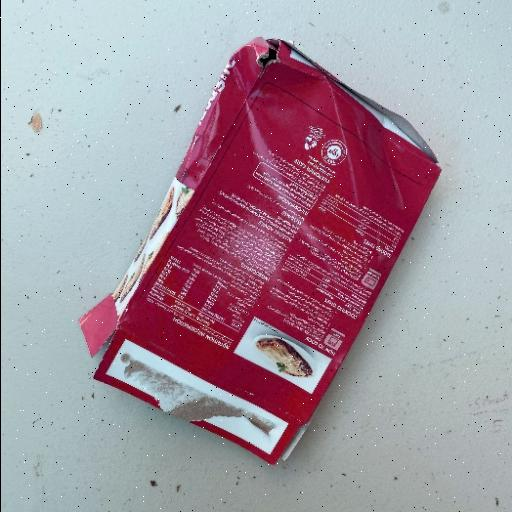Cardboard: (83, 37, 443, 467)
